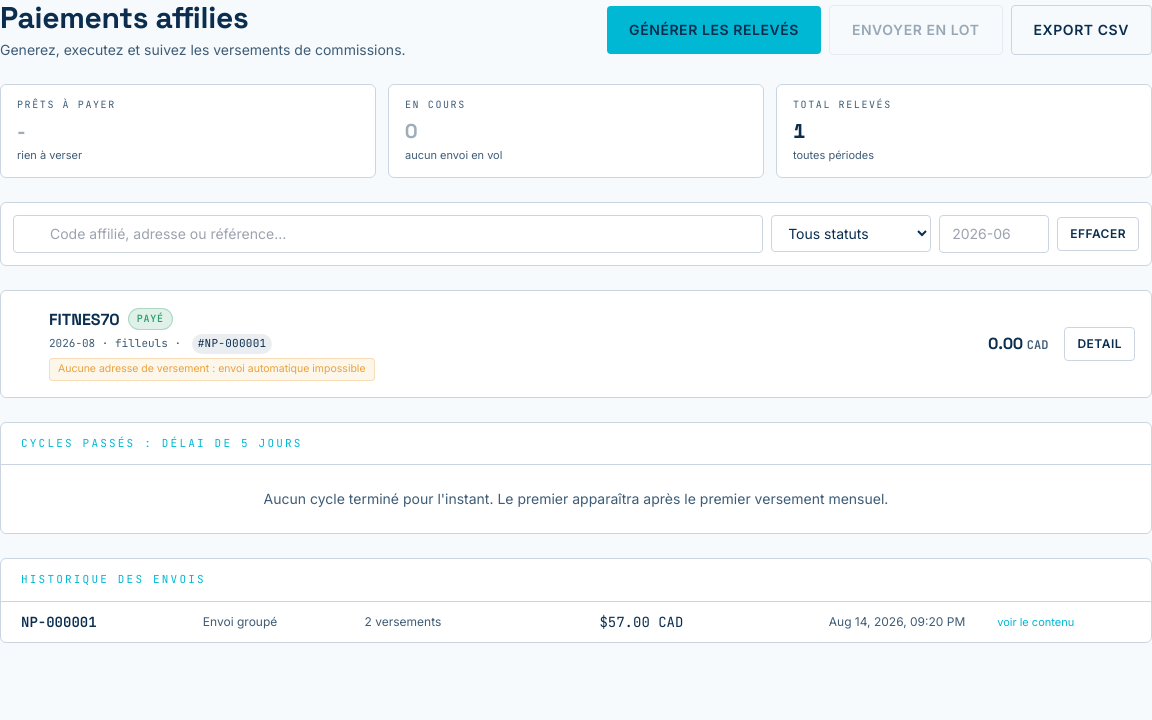
AdminPayouts › dit quand une commande a ete remboursee APRES le versement
Click the row with test id "run-open-NP-000001": x=59, y=622 [1,602,1151,642]
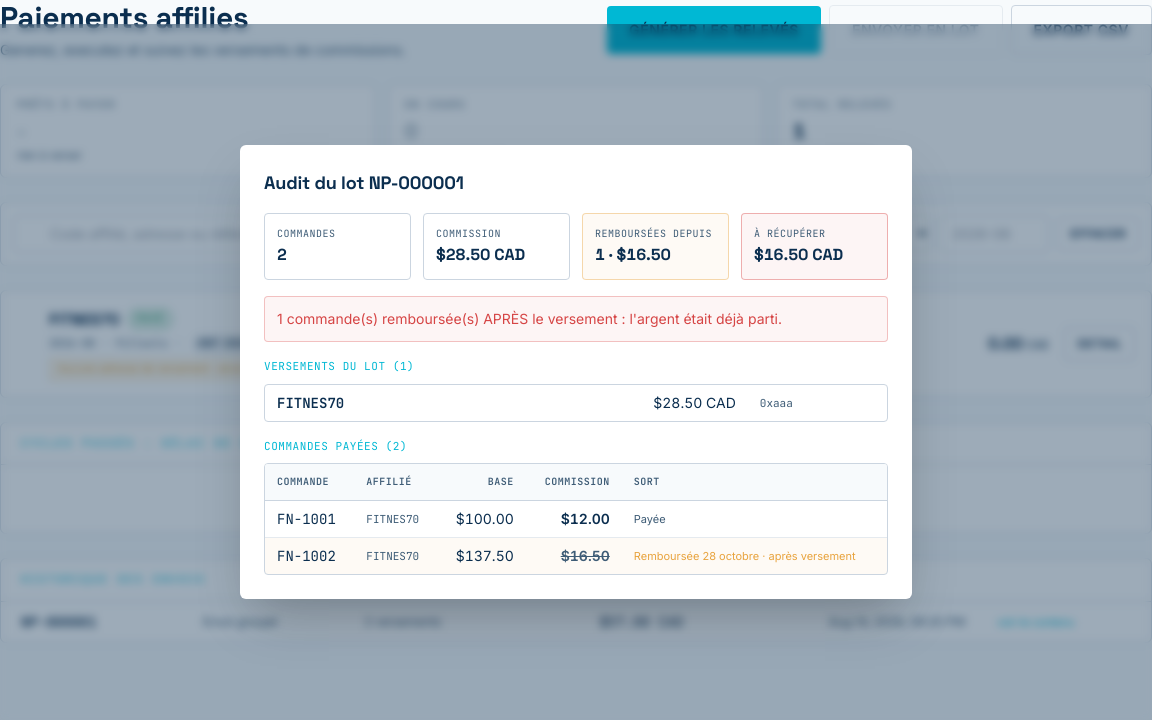
expect the text with test id "lot-apres-versement" reads "1 commande(s) remboursée(s) APRÈS le versement : l'argent était déjà parti.": met, box [277,310,782,327]
expect the row with test id "lot-ligne-FN-1002" shows "Rembours": met, box [634,549,699,563]
